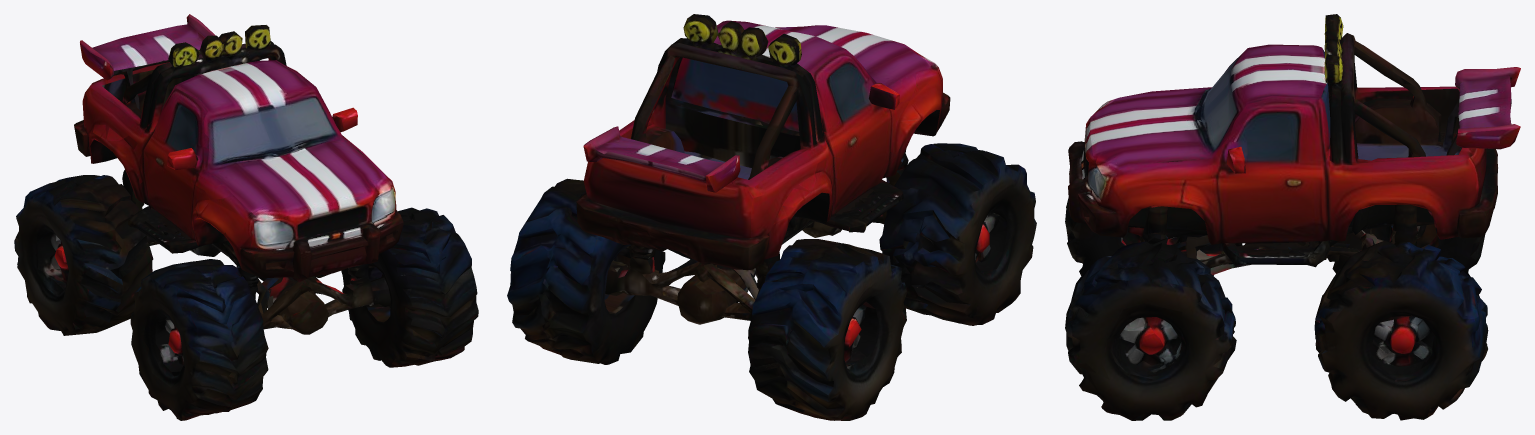
File: red.glb
3 renders of one model, left to right at view 1: azimuth 30°, elevation 25°; view 2: azimuth 150°, elevation 25°; view 3: azimuth 270°, elevation 25°, orthographic. The views are drawn at different scales.
Size of the model in its own units: 1.59 by 1.52 by 1.99.
1 material, 1 textured.
